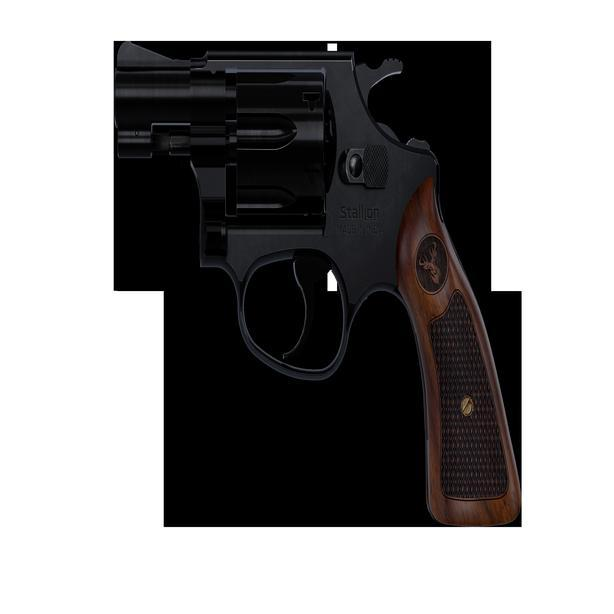Firearm: (116, 43, 521, 527)
